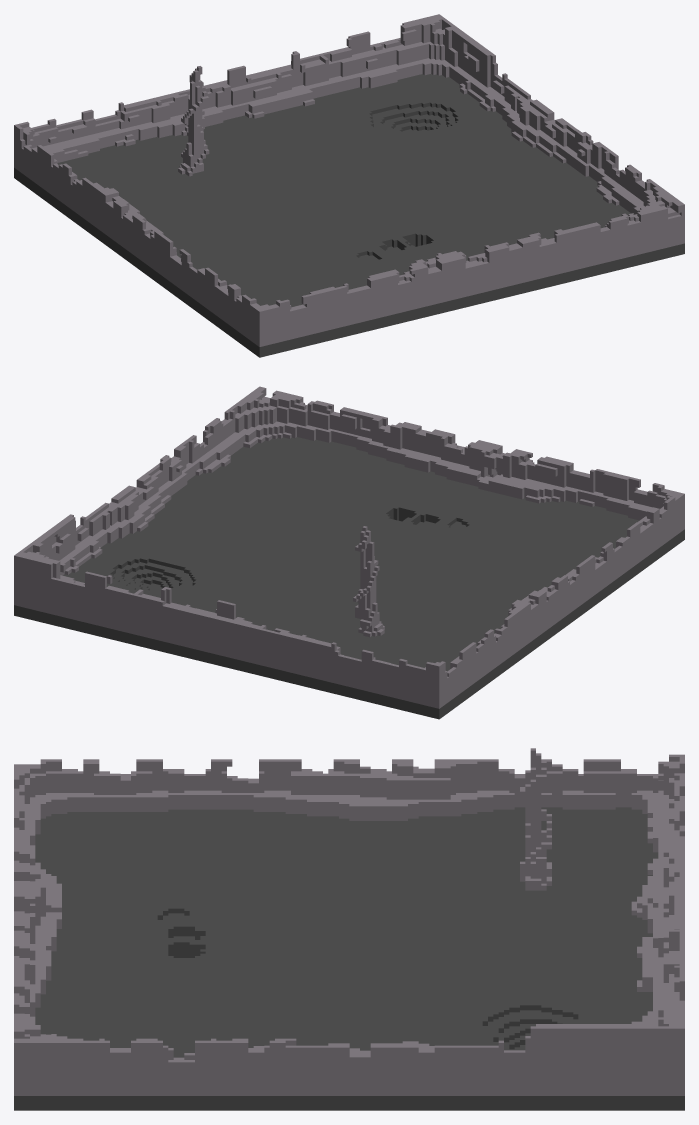
File: Ter - GM AREA.obj
The picture shows the model from 3 angles, top to bottom: view 1: azimuth 30°, elevation 25°; view 2: azimuth 150°, elevation 25°; view 3: azimuth 270°, elevation 25°; orthographic projection. The views are drawn at different scales.
Visible parts, largest first — view 1: Ter - GM AREA; view 2: Ter - GM AREA; view 3: Ter - GM AREA.
Part boxes in pixels (box(x1,y1,x2,y2)): Ter - GM AREA: box(14, 14, 684, 357); Ter - GM AREA: box(14, 386, 684, 719); Ter - GM AREA: box(14, 748, 684, 1110).
Size of the model in its own units: 126 by 34 by 126.
